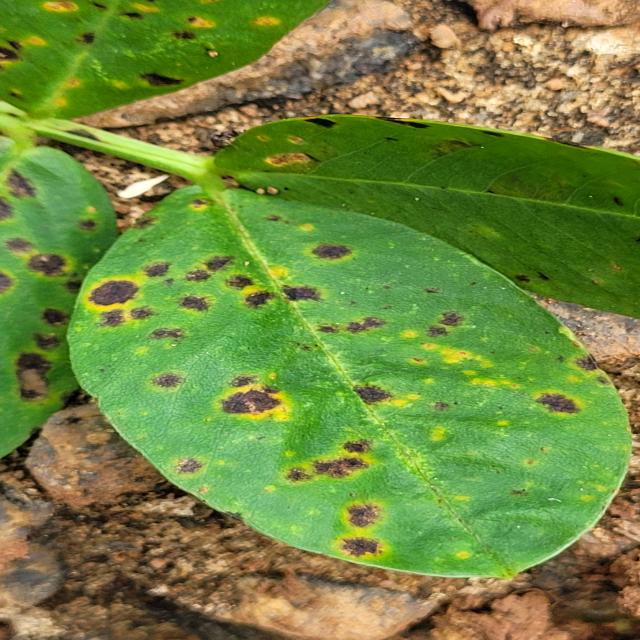Ground nut_tikka leaf spot: (60, 184, 640, 580)
